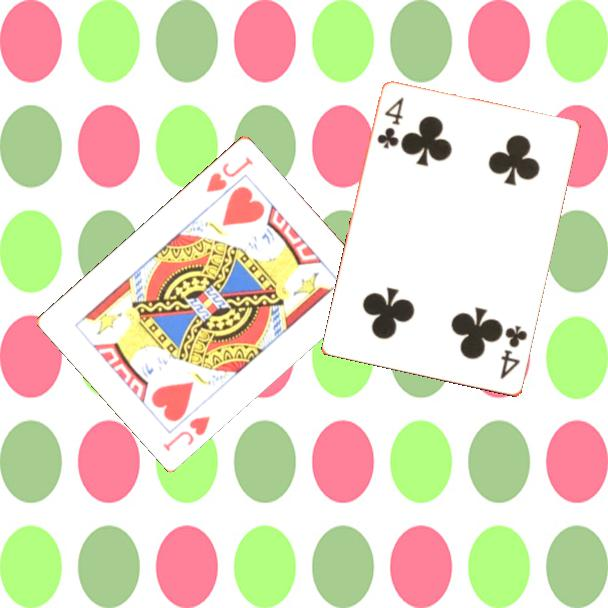c04: (497, 322, 530, 382), (374, 94, 407, 152)
h11: (202, 152, 256, 195), (159, 412, 213, 454)
